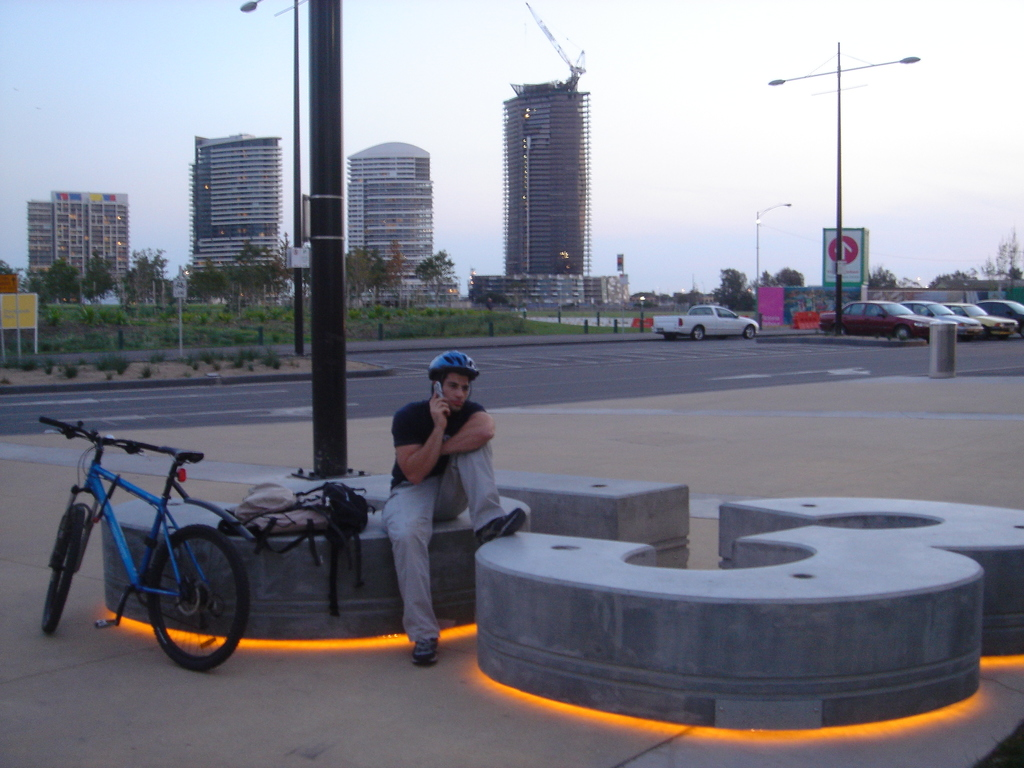Bike_away: (25, 398, 257, 689)
